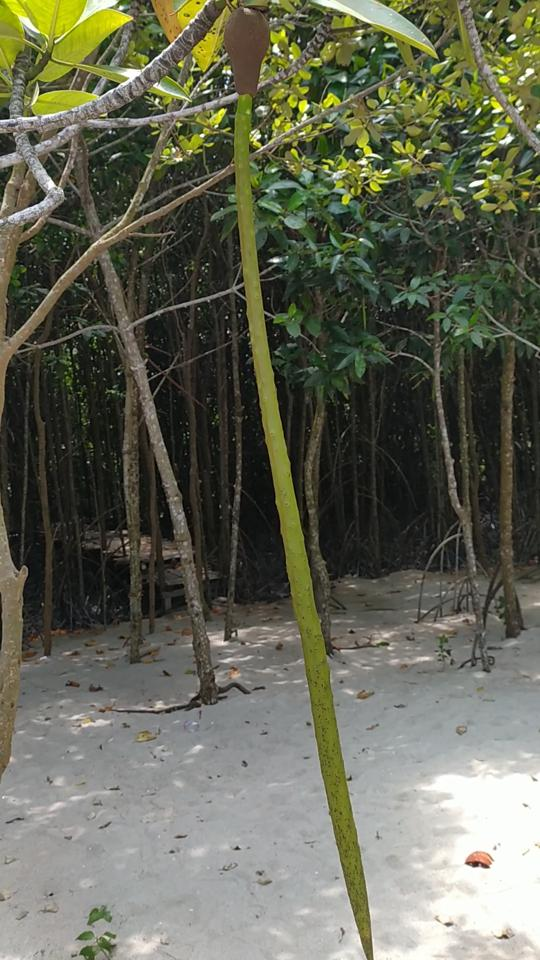mentah: (201, 1, 406, 958)
